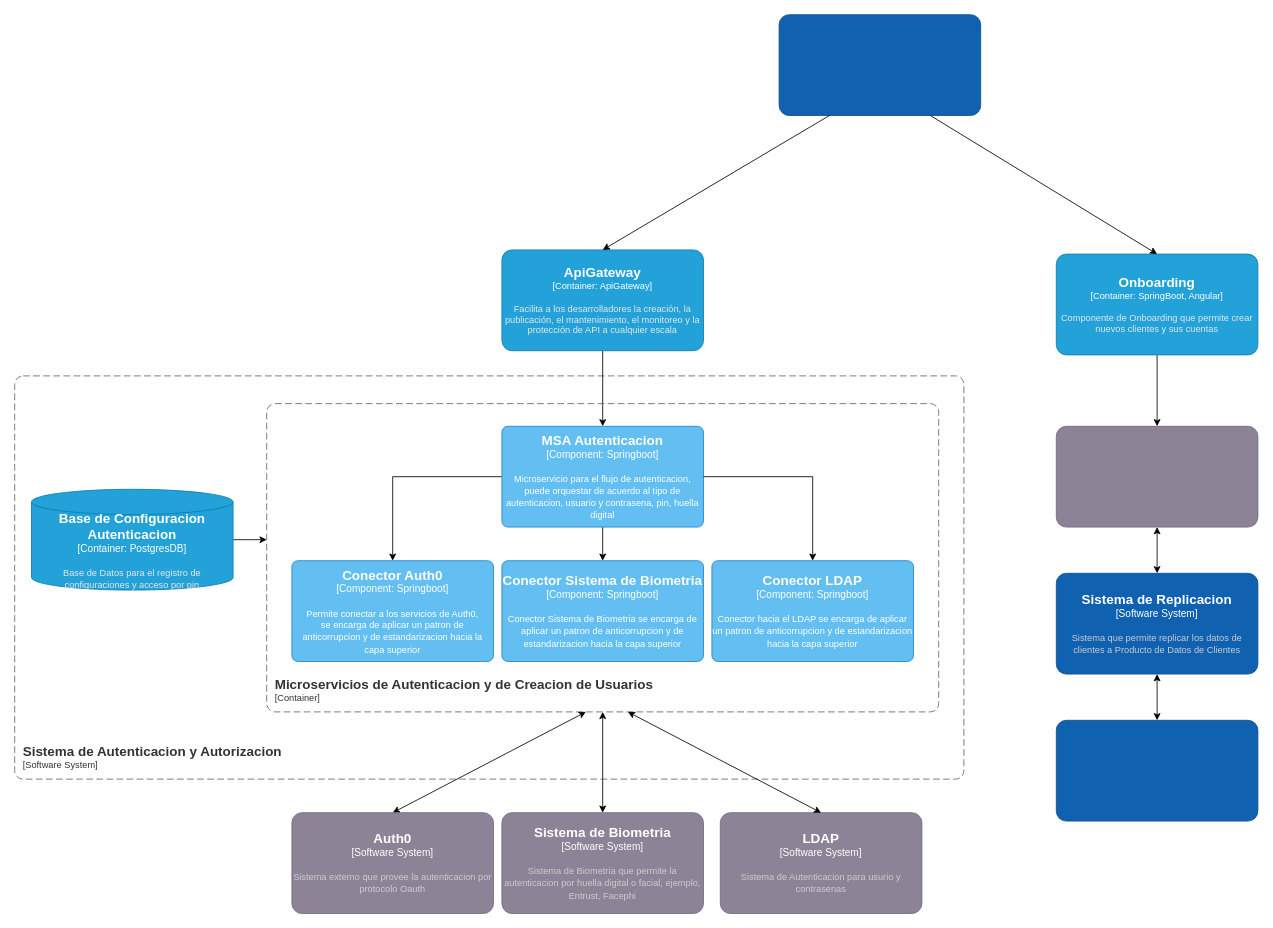
This 1273x928 diagram has some shape labels left out. The centre of each missing label's shape, as x and y in pixels:
"Banca Digital [Software System] Sistema de Banca por Internet" belongs at point (879, 65).
"Core [Software System] Sistema de Core Bancario." belongs at point (1156, 476).
"Producto de Datos Clientes [Software System] Description of software system." belongs at point (1156, 770).
